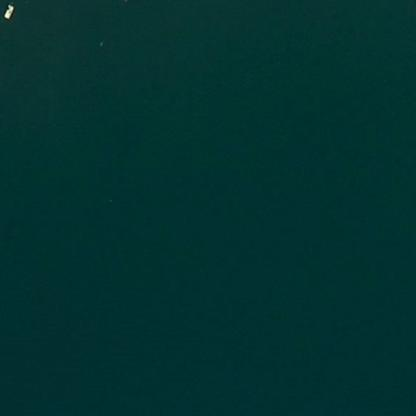ship: (2, 2, 17, 21)
